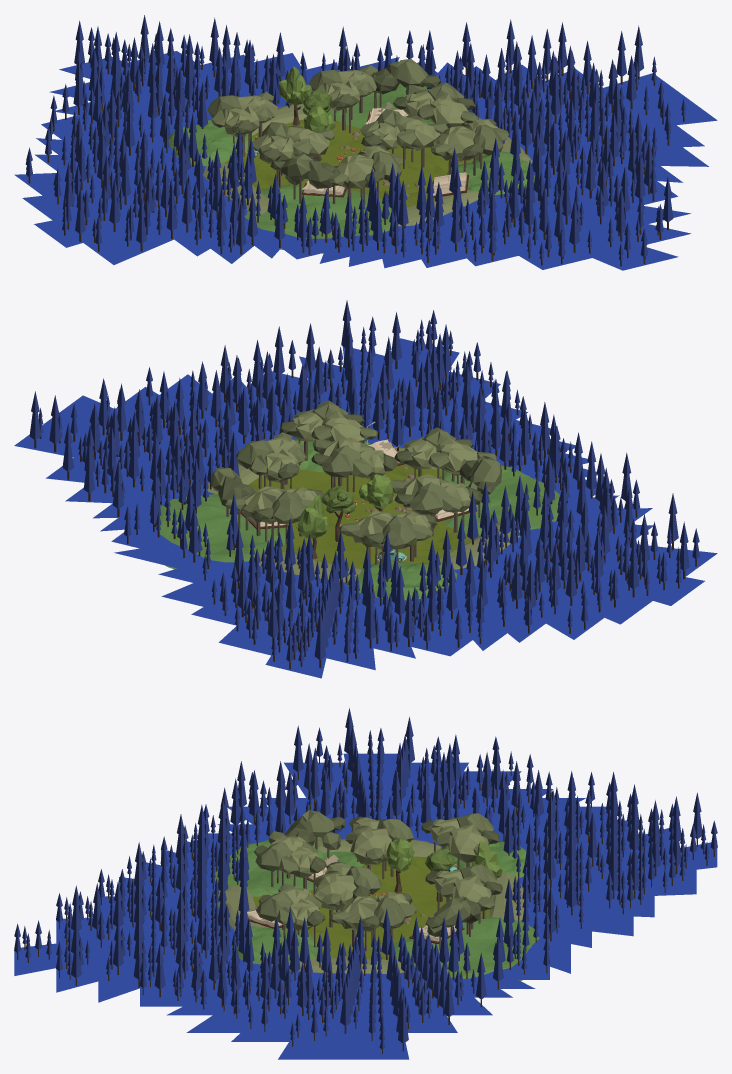
File: forest10_FlutterDreams.glb
3 views of the same model, one above another, from view 1: azimuth 30°, elevation 25°; view 2: azimuth 150°, elevation 25°; view 3: azimuth 270°, elevation 25° (orthographic). The views are drawn at different scales.
Visible parts, largest first — view 1: trees_blue, SyntyTreesPlants, grass, Car_Books; view 2: trees_blue, SyntyTreesPlants, grass, Car_Books; view 3: trees_blue, SyntyTreesPlants, grass, Car_Books.
Boxes of the visible parts, bbox=[...] form: trees_blue: bbox=[14, 51, 717, 270]; SyntyTreesPlants: bbox=[168, 58, 535, 253]; grass: bbox=[224, 119, 485, 207]; Car_Books: bbox=[246, 102, 468, 197]; trees_blue: bbox=[14, 338, 717, 678]; SyntyTreesPlants: bbox=[159, 400, 559, 600]; grass: bbox=[249, 464, 471, 568]; Car_Books: bbox=[240, 421, 470, 561]; trees_blue: bbox=[14, 753, 717, 1059]; SyntyTreesPlants: bbox=[214, 810, 539, 980]; grass: bbox=[245, 856, 489, 962]; Car_Books: bbox=[239, 854, 464, 943].
Bounding box in the file's own units: 35.5 × 5.21 × 34.53.
5 materials, 2 textured.
